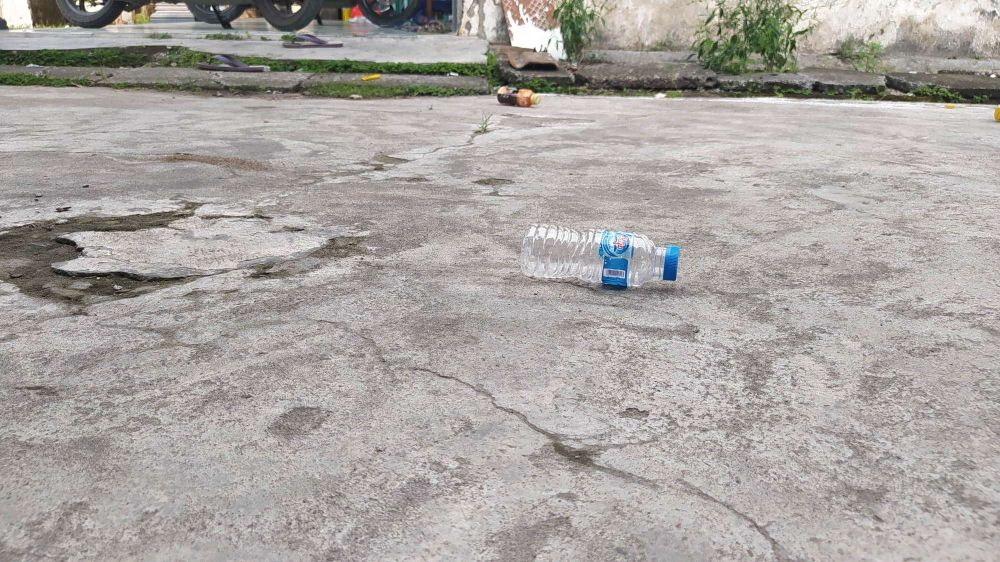botol: (503, 201, 698, 300), (487, 73, 537, 114)
